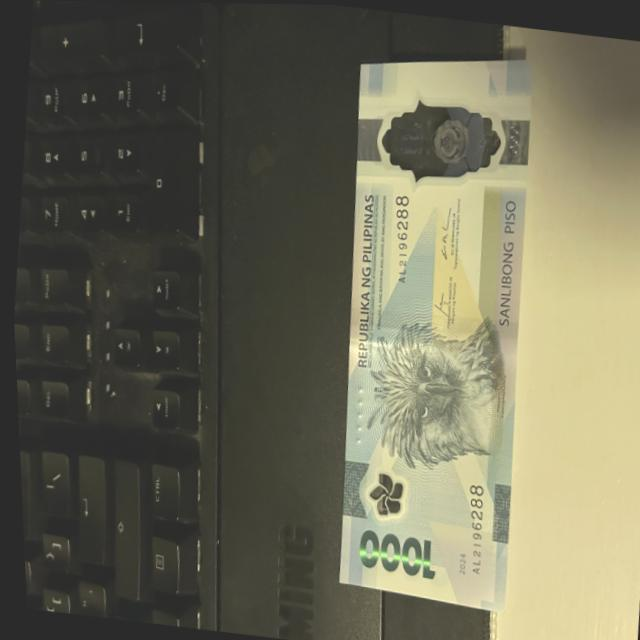clear_window: (367, 88, 511, 197)
eagle: (355, 307, 508, 487)
sampaguita: (356, 462, 401, 527)
